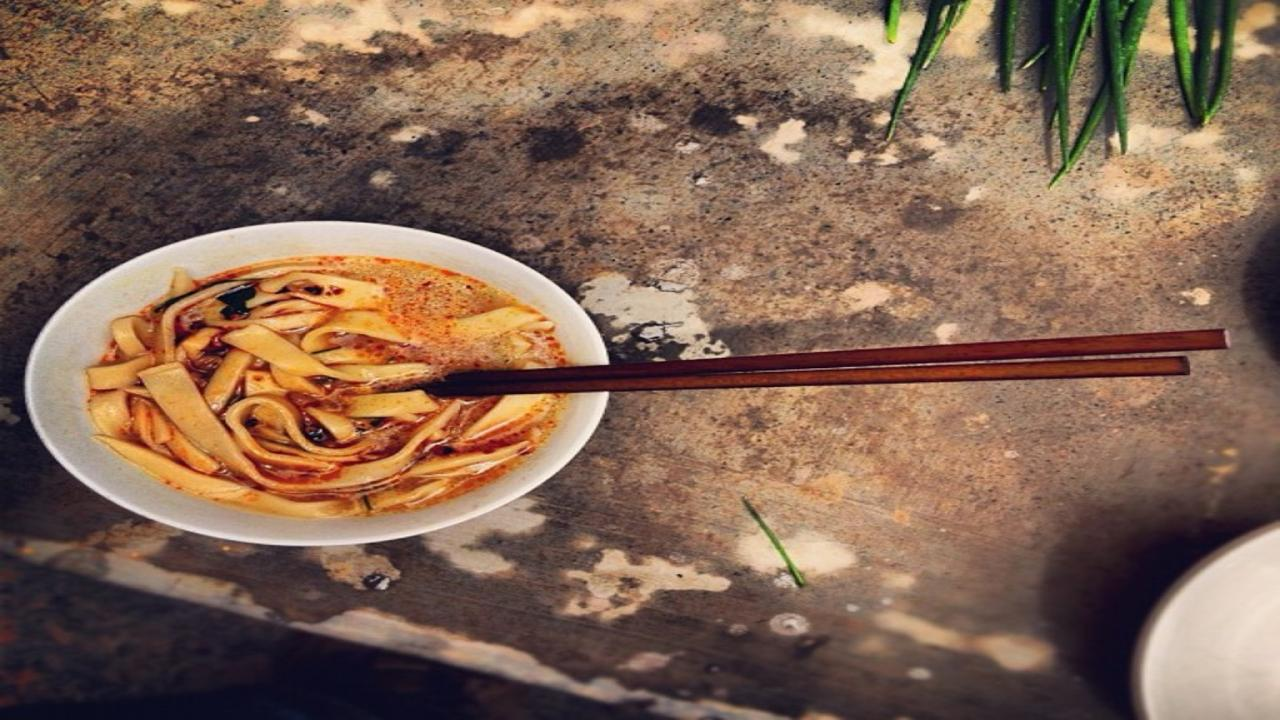chopstick: (438, 328, 1234, 399)
